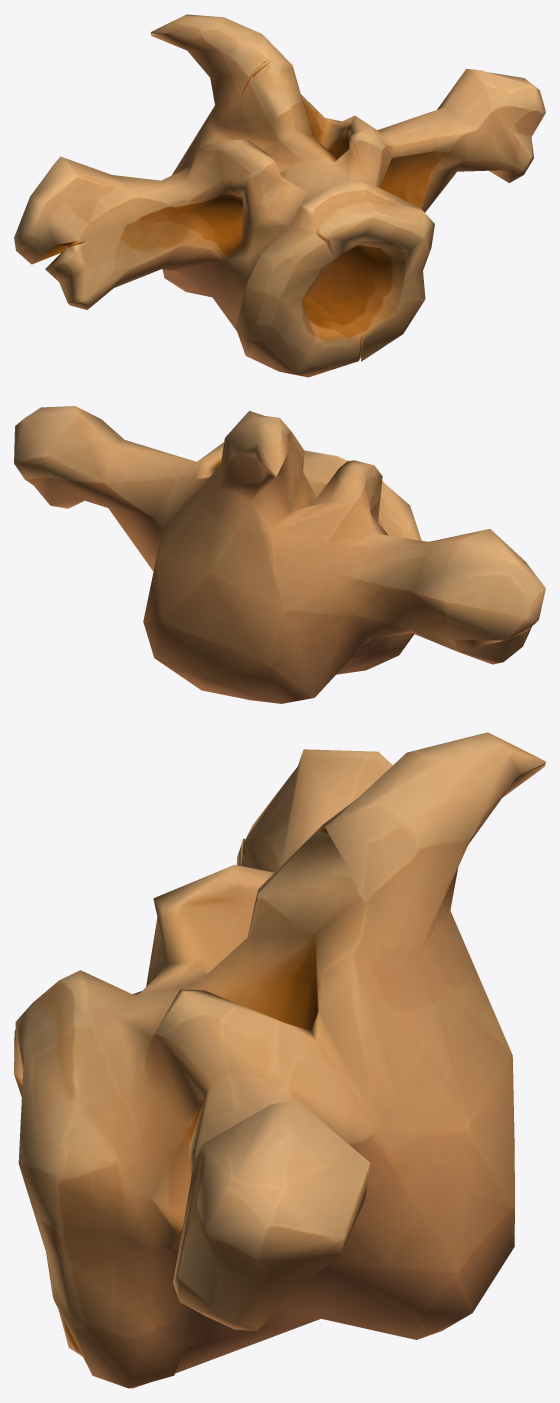
Rendered from Meshy_AI_Porous_Ivory_Drift_20261113_texture.fbx.
The picture shows the model from 3 angles, top to bottom: view 1: azimuth 30°, elevation 25°; view 2: azimuth 150°, elevation 25°; view 3: azimuth 270°, elevation 25°; orthographic projection. The views are drawn at different scales.
Visible parts, largest first — view 1: geometry_0; view 2: geometry_0; view 3: geometry_0.
Part boxes in pixels (x1,y1,x2,y2): geometry_0: (14,14,545,377); geometry_0: (14,406,545,703); geometry_0: (14,732,545,1388).
Size of the model in its own units: 96.09 by 54.3 by 44.58.
1 material, 1 textured.
